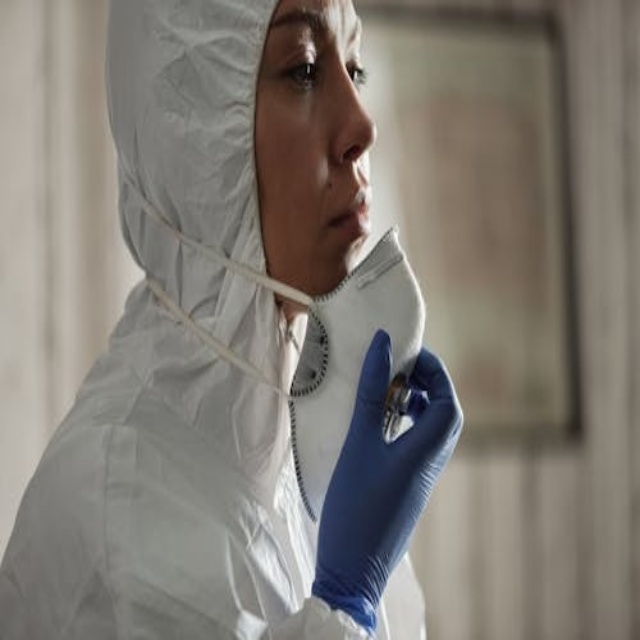Guantes: (311, 325, 463, 634)
Sin_gafas: (260, 27, 374, 102)
Sin_mascara: (297, 171, 379, 251)
